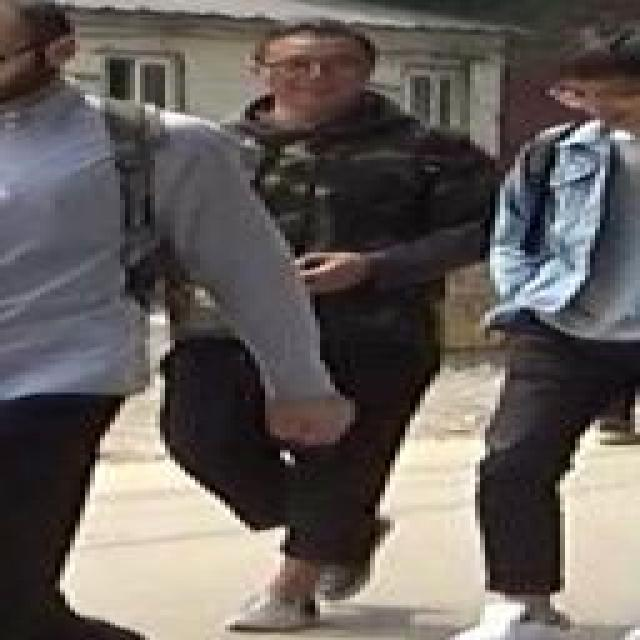adult: (120, 21, 508, 631), (0, 0, 306, 640), (463, 22, 640, 640)
